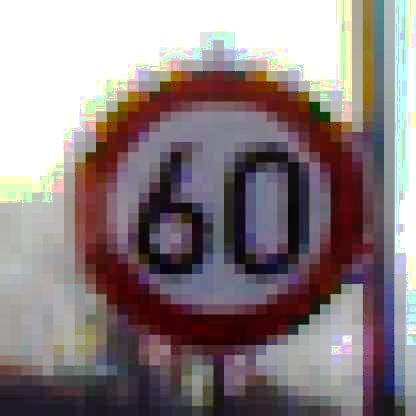Speed Limit -60-: (64, 57, 366, 355)
